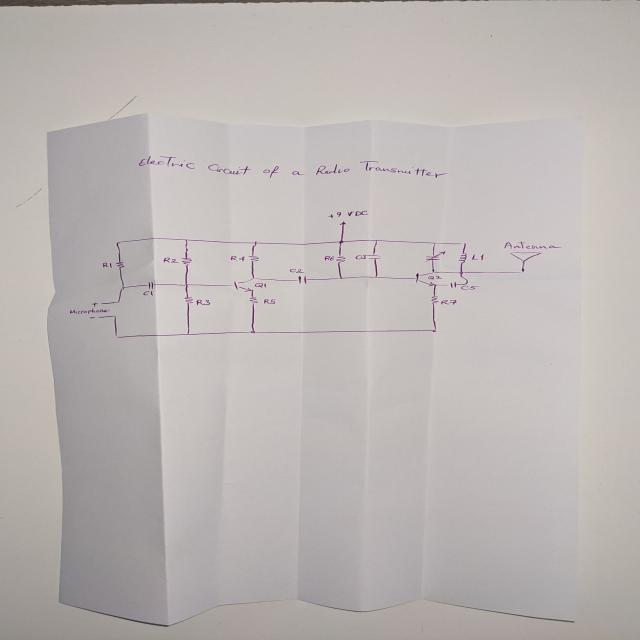capacitor: (423, 250, 446, 263), (366, 253, 383, 260), (296, 275, 309, 284), (146, 280, 156, 290), (446, 281, 458, 288)
inductor: (457, 252, 467, 265)
junction: (250, 240, 258, 247), (248, 329, 257, 334), (180, 283, 190, 287), (430, 242, 438, 246), (115, 240, 122, 244), (337, 276, 344, 280), (372, 275, 381, 278), (460, 242, 468, 245), (457, 271, 465, 274), (518, 270, 525, 273), (120, 286, 125, 290), (185, 332, 190, 336), (431, 328, 436, 332), (112, 314, 117, 318), (338, 240, 344, 243), (374, 238, 378, 242), (114, 335, 119, 338), (461, 282, 468, 284), (184, 238, 188, 241), (116, 300, 120, 303)
resistor: (247, 254, 260, 263), (335, 254, 346, 264), (180, 257, 192, 266), (430, 294, 439, 304), (183, 296, 193, 305), (248, 296, 259, 304), (115, 260, 125, 268)
source: (338, 221, 348, 225)
terminal: (99, 302, 103, 305), (95, 316, 101, 318)
text: (137, 155, 451, 179), (502, 241, 564, 249), (326, 210, 370, 218), (68, 308, 110, 314), (162, 256, 179, 264), (195, 298, 211, 306), (470, 253, 485, 261), (229, 255, 246, 262), (439, 299, 458, 305), (460, 285, 480, 290), (262, 298, 276, 305), (288, 268, 305, 273), (354, 253, 366, 260), (253, 282, 267, 288), (427, 275, 443, 280), (322, 255, 334, 261), (101, 262, 113, 268), (142, 290, 154, 296), (90, 302, 99, 307), (88, 316, 96, 319)
transistor: (229, 276, 257, 292), (411, 270, 438, 286)
